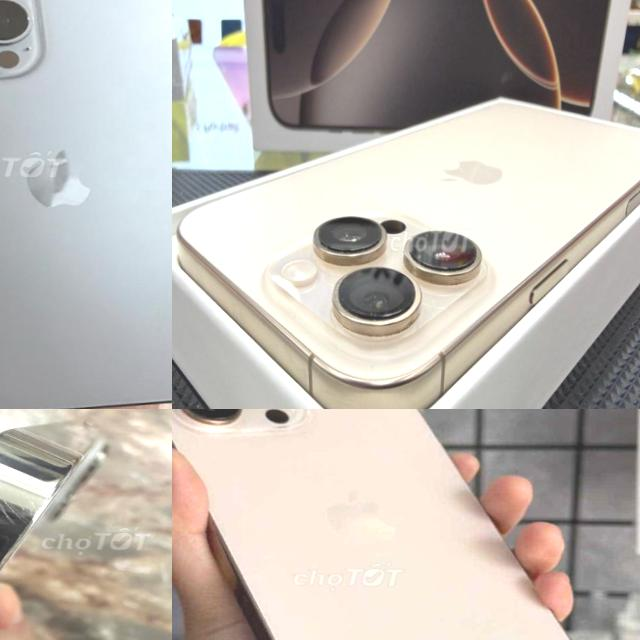gen_12_13: (0, 0, 172, 409)
gen_14: (0, 409, 135, 640)
gen_16: (172, 90, 640, 409), (172, 409, 622, 640)
